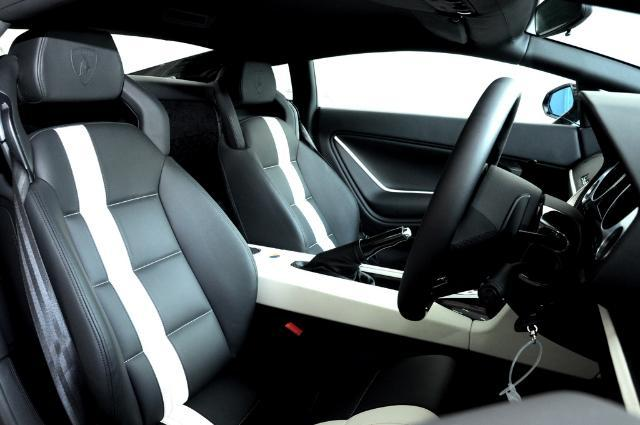Seatbelt: (11, 157, 95, 423), (303, 124, 319, 156)
